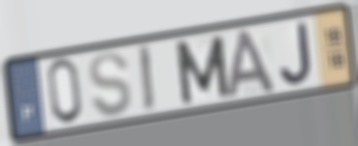0: (45, 56, 85, 129)
A: (224, 27, 279, 100)
I: (135, 42, 158, 116)
J: (277, 19, 314, 87)
M: (172, 33, 232, 108)
S: (87, 50, 134, 120)
